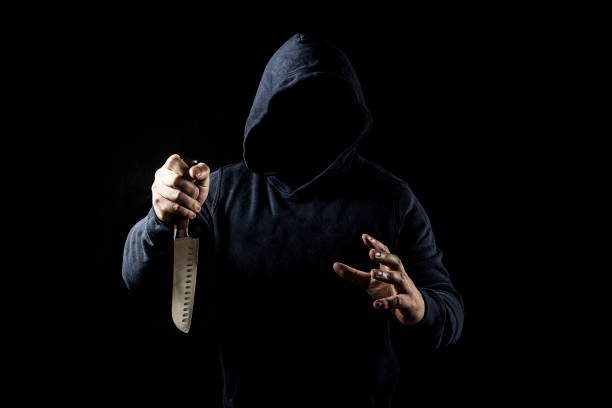knife: (167, 153, 205, 337)
